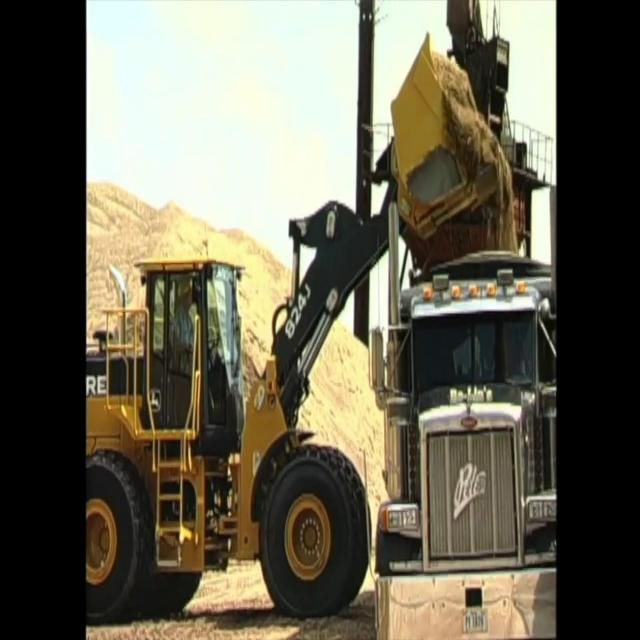Dump Truck: (360, 232, 556, 636)
Loader: (85, 18, 509, 620)
